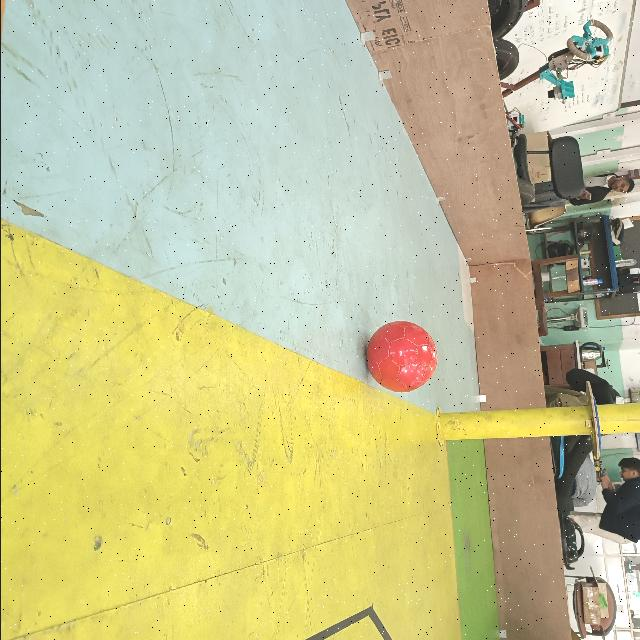R: (364, 320, 438, 394)
